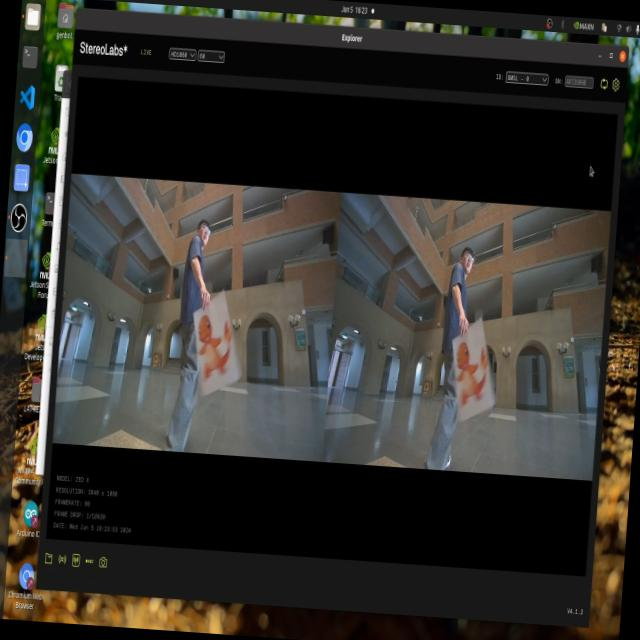red: (182, 298, 244, 388), (435, 327, 491, 422)
